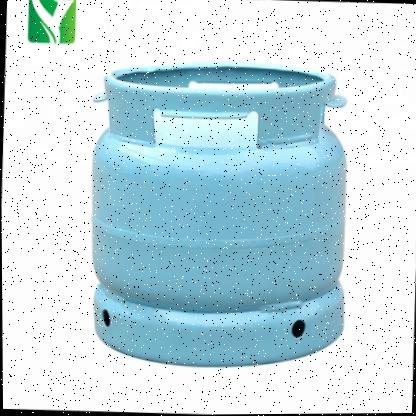gas-tank: (65, 49, 372, 380)
